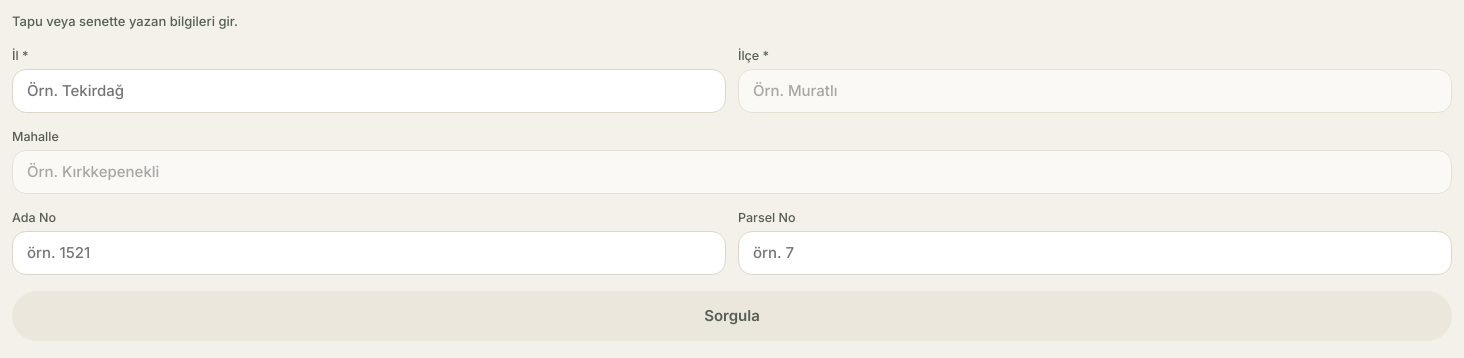
it: ManualParcelEntryForm › yarisan il secimlerinde eski (once secilen) ilin gec gelen ilce cevabi yeni secimi ezmez
This screenshot has width=1464, height=358.
In the dropdown labelled "İl *": (369, 90) [12, 68, 726, 112], type "Adana"
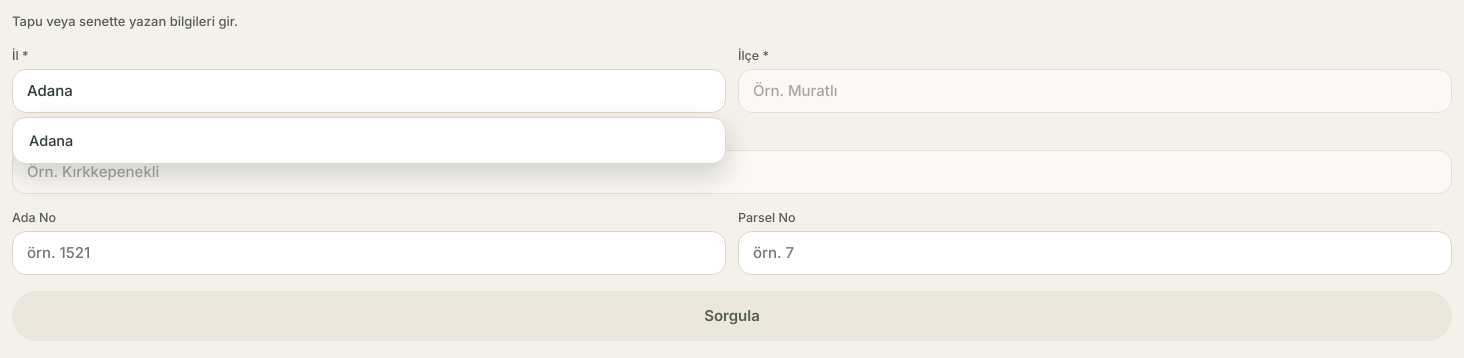
Click the option "Adana": (51, 140) [29, 132, 73, 148]
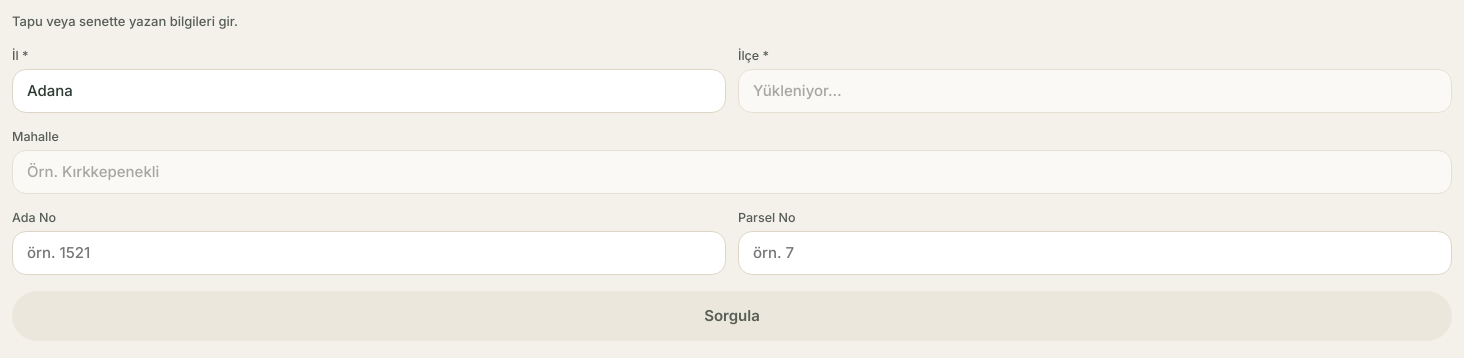
Replace the text in the dropdown labelled "İl *" with "Bursa": (369, 90) [12, 68, 726, 112]
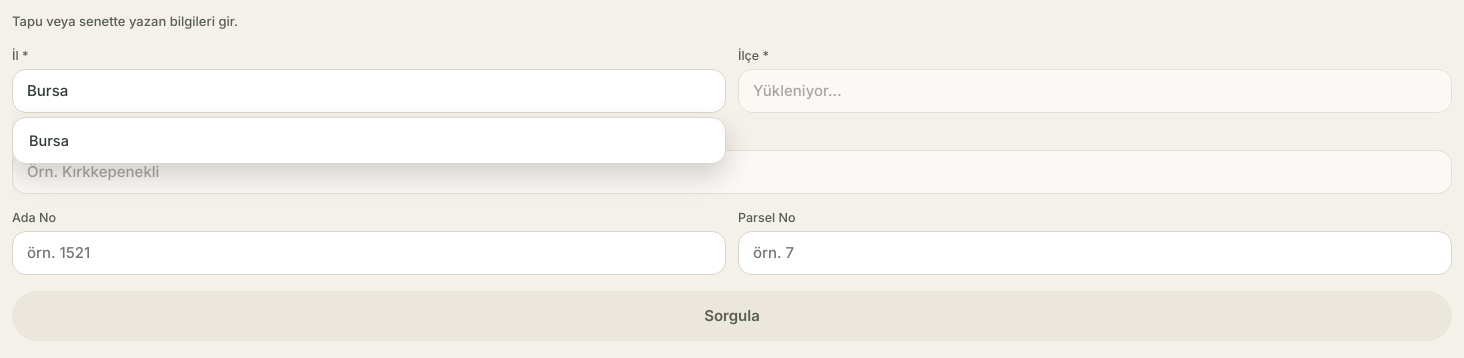
Click the option "Bursa": (49, 140) [29, 132, 69, 148]
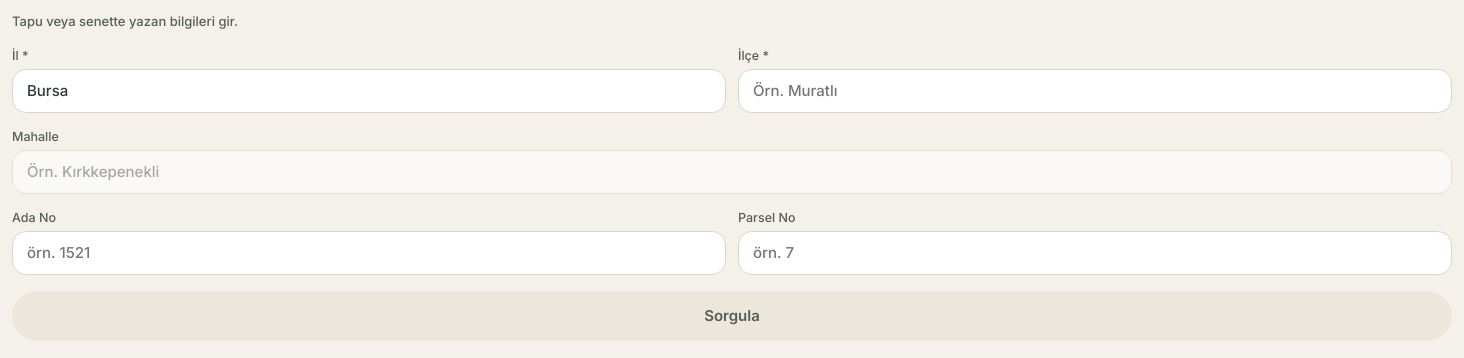
Result: the dropdown labelled "İlçe *" is enabled
Focus the dropdown labelled "İlçe *": (1095, 90) [738, 68, 1452, 112]
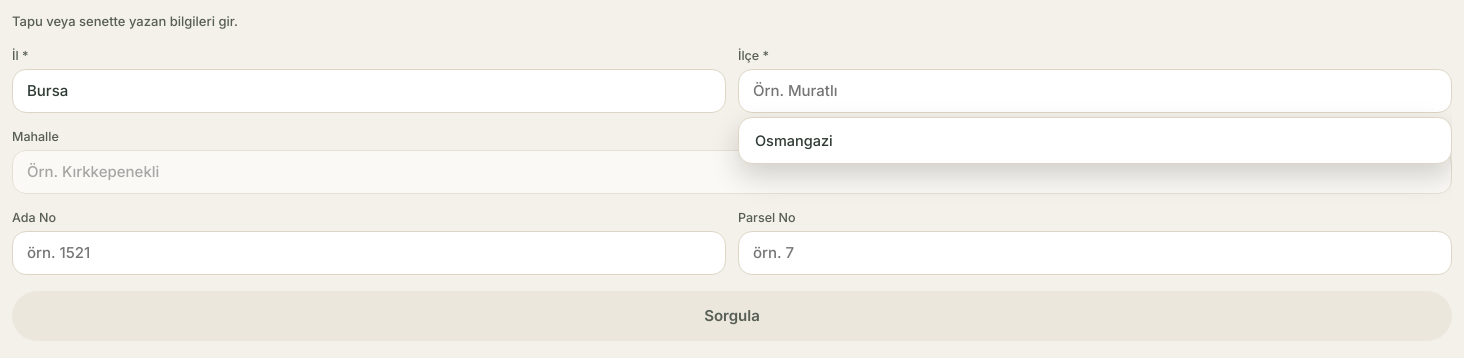
Result: the option "Osmangazi" is shown at [755, 132, 833, 148]
